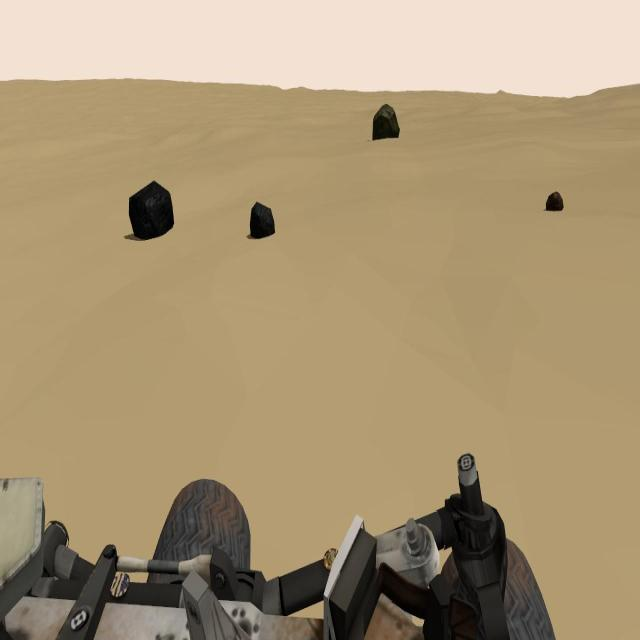rock: (129, 179, 174, 239), (373, 103, 400, 140), (250, 201, 275, 238), (546, 192, 564, 212)
